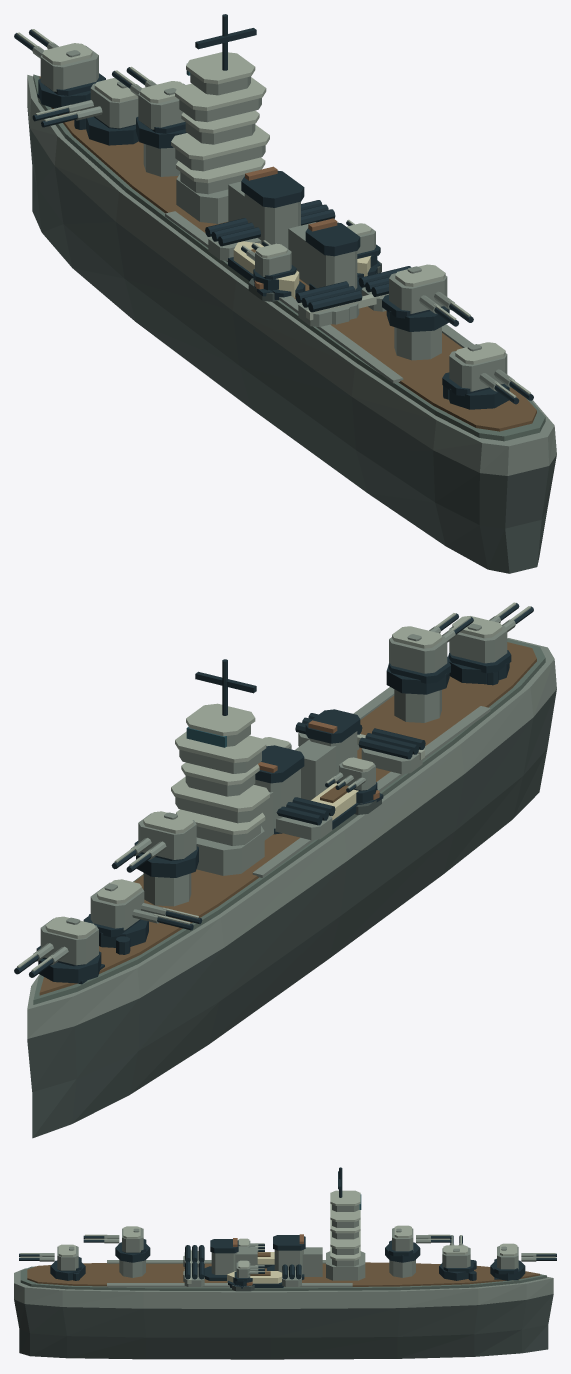
Rendered from historic-mogami.glb.
The picture shows the model from 3 angles, top to bottom: view 1: azimuth 30°, elevation 25°; view 2: azimuth 150°, elevation 25°; view 3: azimuth 270°, elevation 25°; orthographic projection. The views are drawn at different scales.
Visible parts, largest first — view 1: historic-mogami-historic-mogami-geometry, historic-mogami-part_bridge.026-geometry, historic-mogami-historic_funnel_0.027-geometry, historic-mogami-historic_funnel_1.013-geometry, historic-mogami-turret_main_3.010-geometry, historic-mogami-turret_main_4.002-geometry, historic-mogami-turret_main_1.018-geometry, historic-mogami-turret_main_0.019-geometry, historic-mogami-turret_main_2.018-geometry, historic-mogami-torpedo_bank_0.003-geometry, historic-mogami-turret_aa_aa-port.028-geometry, historic-mogami-torpedo_bank_2-geometry (+2 smaller); view 2: historic-mogami-historic-mogami-geometry, historic-mogami-part_bridge.026-geometry, historic-mogami-turret_main_3.010-geometry, historic-mogami-turret_main_1.018-geometry, historic-mogami-turret_main_0.019-geometry, historic-mogami-turret_main_2.018-geometry, historic-mogami-turret_main_4.002-geometry, historic-mogami-historic_funnel_1.013-geometry, historic-mogami-historic_funnel_0.027-geometry, historic-mogami-torpedo_bank_0.003-geometry, historic-mogami-torpedo_bank_2-geometry, historic-mogami-turret_aa_aa-port.028-geometry; view 3: historic-mogami-historic-mogami-geometry, historic-mogami-part_bridge.026-geometry, historic-mogami-historic_funnel_0.027-geometry, historic-mogami-historic_funnel_1.013-geometry, historic-mogami-turret_main_3.010-geometry, historic-mogami-turret_main_2.018-geometry, historic-mogami-turret_main_0.019-geometry, historic-mogami-turret_main_4.002-geometry, historic-mogami-turret_main_1.018-geometry, historic-mogami-turret_aa_aa-starboard.026-geometry, historic-mogami-torpedo_bank_1.002-geometry, historic-mogami-torpedo_bank_3-geometry (+1 smaller).
Part boxes in pixels (<box>): historic-mogami-historic-mogami-geometry: <box>27,74,556,573</box>; historic-mogami-part_bridge.026-geometry: <box>171,14,269,223</box>; historic-mogami-historic_funnel_0.027-geometry: <box>228,166,304,248</box>; historic-mogami-historic_funnel_1.013-geometry: <box>288,218,362,292</box>; historic-mogami-turret_main_3.010-geometry: <box>382,264,473,331</box>; historic-mogami-turret_main_4.002-geometry: <box>442,342,533,409</box>; historic-mogami-turret_main_1.018-geometry: <box>32,77,138,145</box>; historic-mogami-turret_main_0.019-geometry: <box>14,29,105,108</box>; historic-mogami-turret_main_2.018-geometry: <box>112,66,186,148</box>; historic-mogami-torpedo_bank_0.003-geometry: <box>295,281,362,327</box>; historic-mogami-turret_aa_aa-port.028-geometry: <box>241,240,296,290</box>; historic-mogami-torpedo_bank_2-geometry: <box>205,218,261,260</box>; historic-mogami-historic-mogami-geometry: <box>27,638,556,1138</box>; historic-mogami-part_bridge.026-geometry: <box>171,659,269,875</box>; historic-mogami-turret_main_3.010-geometry: <box>386,613,473,694</box>; historic-mogami-turret_main_1.018-geometry: <box>83,879,202,947</box>; historic-mogami-turret_main_0.019-geometry: <box>14,916,101,983</box>; historic-mogami-turret_main_2.018-geometry: <box>111,811,198,877</box>; historic-mogami-turret_main_4.002-geometry: <box>447,602,533,684</box>; historic-mogami-historic_funnel_1.013-geometry: <box>295,709,360,800</box>; historic-mogami-historic_funnel_0.027-geometry: <box>254,745,304,840</box>; historic-mogami-torpedo_bank_0.003-geometry: <box>358,728,425,774</box>; historic-mogami-torpedo_bank_2-geometry: <box>275,797,335,840</box>; historic-mogami-turret_aa_aa-port.028-geometry: <box>325,757,377,803</box>; historic-mogami-historic-mogami-geometry: <box>14,1252,553,1359</box>; historic-mogami-part_bridge.026-geometry: <box>326,1167,365,1280</box>; historic-mogami-historic_funnel_0.027-geometry: <box>267,1234,322,1279</box>; historic-mogami-historic_funnel_1.013-geometry: <box>204,1238,257,1280</box>; historic-mogami-turret_main_3.010-geometry: <box>83,1226,150,1262</box>; historic-mogami-turret_main_2.018-geometry: <box>385,1225,451,1262</box>; historic-mogami-turret_main_0.019-geometry: <box>490,1243,556,1280</box>; historic-mogami-turret_main_4.002-geometry: <box>19,1244,85,1280</box>; historic-mogami-turret_main_1.018-geometry: <box>439,1235,473,1280</box>; historic-mogami-turret_aa_aa-starboard.026-geometry: <box>233,1260,264,1286</box>; historic-mogami-torpedo_bank_1.002-geometry: <box>184,1261,204,1286</box>; historic-mogami-torpedo_bank_3-geometry: <box>282,1264,301,1286</box>.
Bounding box in the file's own units: 0.6925 × 1.6 × 4.34.
